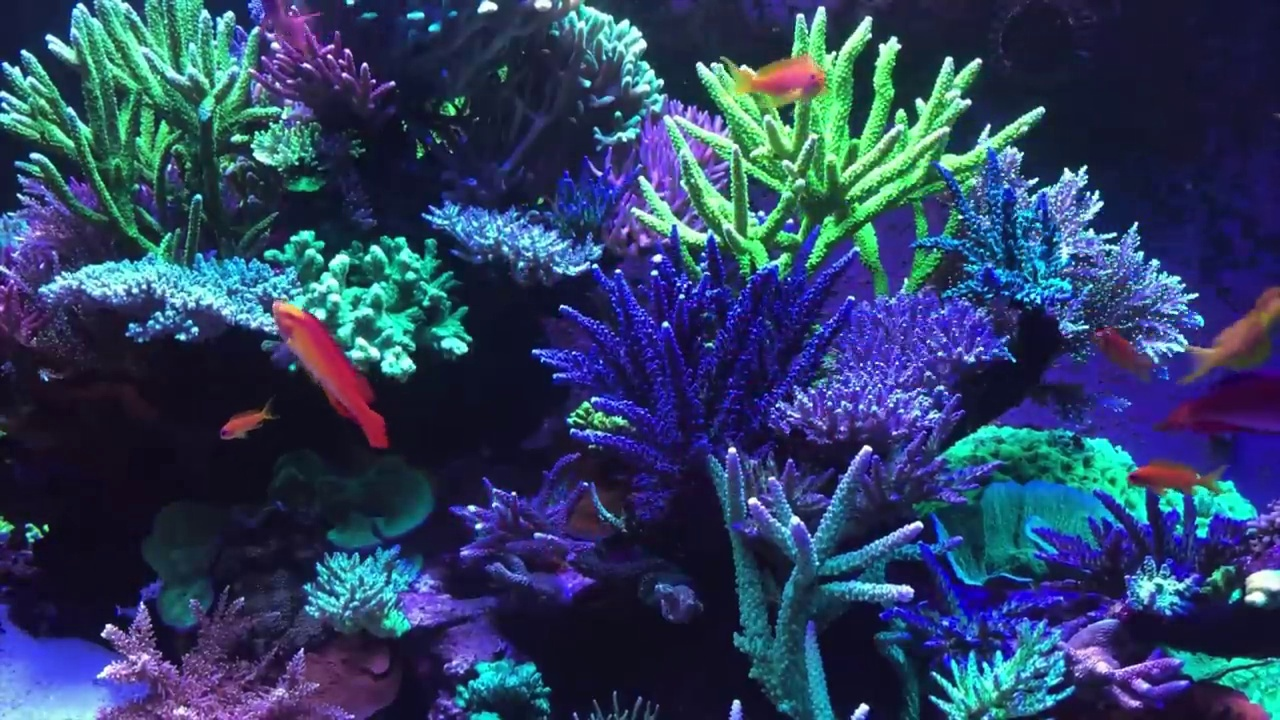fish: (269, 299, 393, 451), (1180, 286, 1280, 387), (1158, 380, 1280, 447), (733, 52, 828, 108), (1127, 458, 1230, 500), (260, 1, 328, 61), (1094, 325, 1157, 382), (217, 400, 279, 442)
